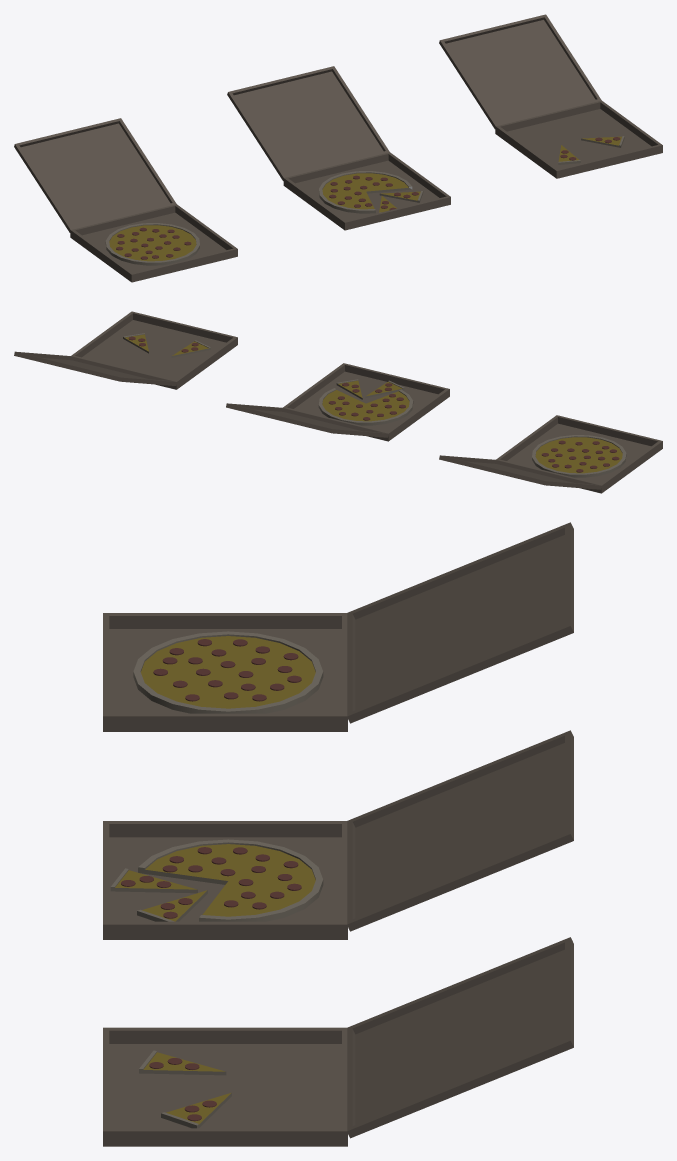
File: pizzas.fbx
3 views of the same model, one above another, from view 1: azimuth 30°, elevation 25°; view 2: azimuth 150°, elevation 25°; view 3: azimuth 270°, elevation 25° (orthographic). The views are drawn at different scales.
Visible parts, largest first — view 1: fullpizza, emptypizzabox, pizzabox1, partialpizza; view 2: fullpizza, emptypizzabox, pizzabox1, partialpizza, slice3, slice1, slice; view 3: fullpizza, emptypizzabox, pizzabox1, partialpizza, slice1, slice3, slice2, slice.
Part boxes in pixels (left/top/right/bottom): fullpizza: left=14, top=118, right=237, bottom=282; emptypizzabox: left=439, top=14, right=662, bottom=178; pizzabox1: left=227, top=66, right=450, bottom=230; partialpizza: left=319, top=171, right=412, bottom=213; fullpizza: left=439, top=415, right=662, bottom=493; emptypizzabox: left=14, top=311, right=237, bottom=389; pizzabox1: left=226, top=363, right=449, bottom=441; partialpizza: left=318, top=388, right=413, bottom=425; slice3: left=171, top=340, right=210, bottom=357; slice1: left=365, top=380, right=404, bottom=398; slice: left=336, top=379, right=362, bottom=399; fullpizza: left=103, top=522, right=573, bottom=731; emptypizzabox: left=103, top=937, right=573, bottom=1146; pizzabox1: left=103, top=730, right=573, bottom=939; partialpizza: left=138, top=839, right=323, bottom=921; slice1: left=110, top=868, right=197, bottom=893; slice3: left=139, top=1050, right=226, bottom=1075; slice2: left=161, top=1092, right=231, bottom=1128; slice: left=137, top=890, right=207, bottom=921.
Bounding box in the file's own units: 5 × 0.4773 × 1.92.
